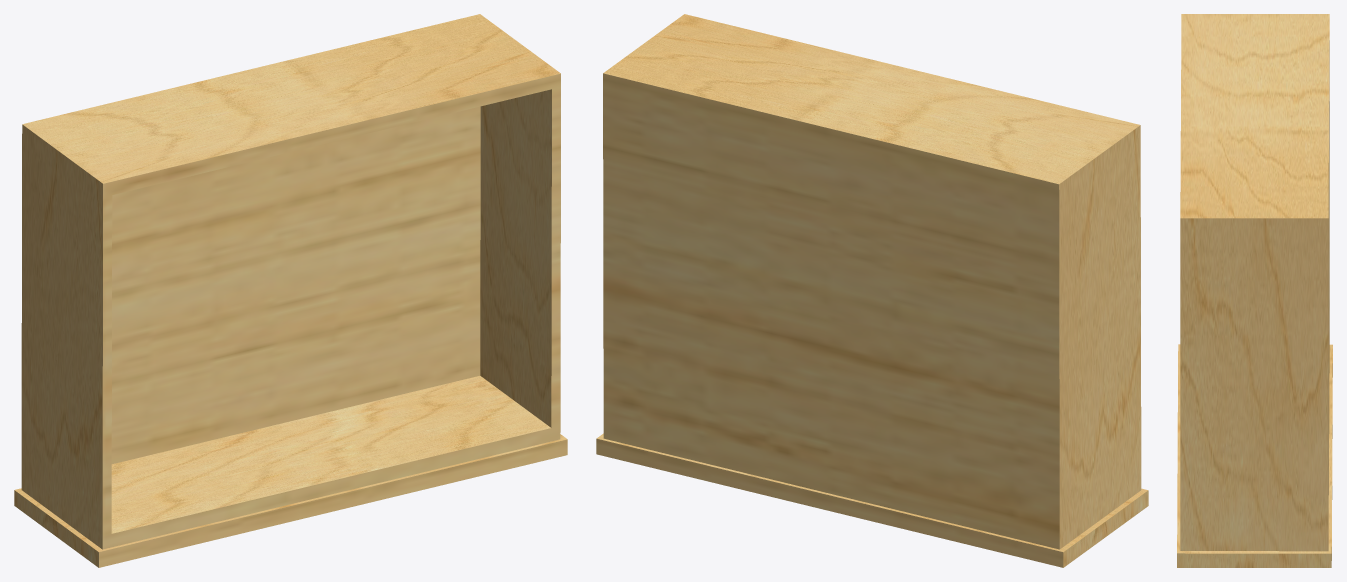
The model's file is yellow_cabinet_bottom.obj.
3 renders of one model, left to right at view 1: azimuth 30°, elevation 25°; view 2: azimuth 150°, elevation 25°; view 3: azimuth 270°, elevation 25°, orthographic. The views are drawn at different scales.
Parts seen in each view (by area): view 1: Cube.015_Cube.009; view 2: Cube.015_Cube.009; view 3: Cube.015_Cube.009.
Boxes of the visible parts, <box> form: Cube.015_Cube.009: <box>14,14,567,567</box>; Cube.015_Cube.009: <box>596,14,1148,567</box>; Cube.015_Cube.009: <box>1177,14,1332,567</box>.
Size of the model in its own units: 4.44 by 3.46 by 1.4.
